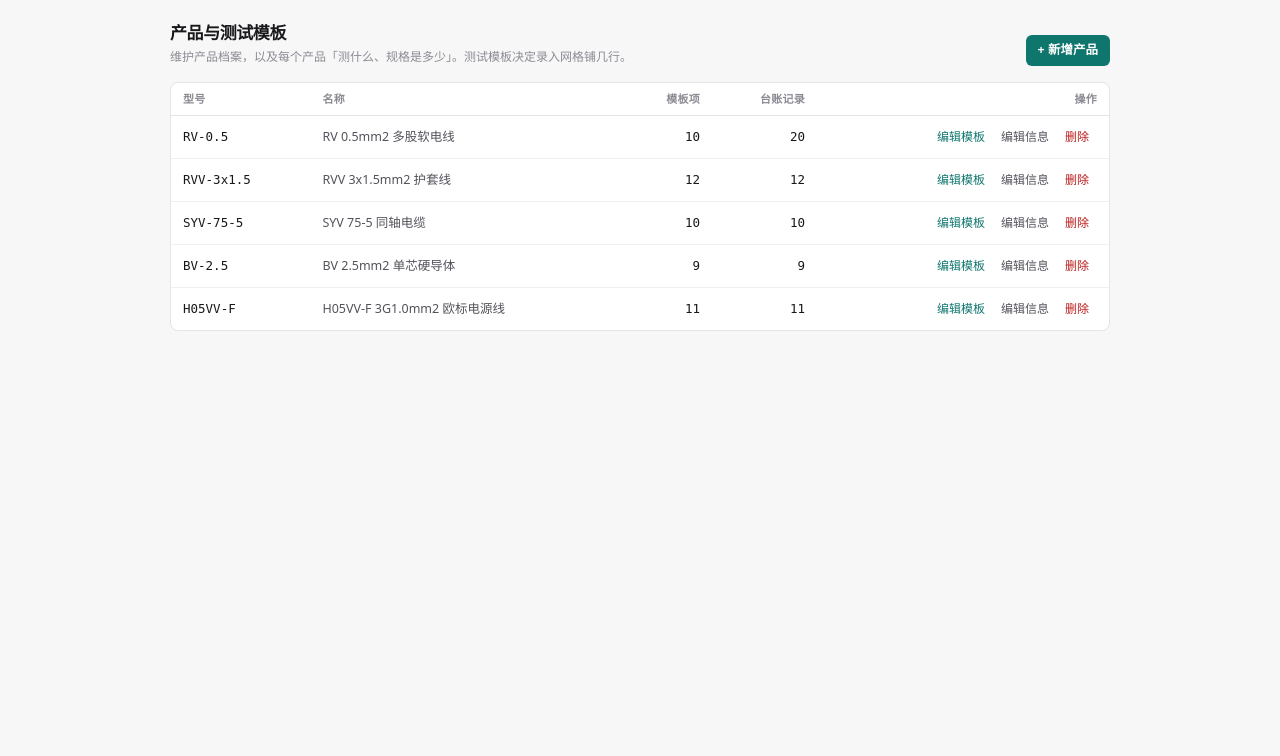
Test case: 工单 05 — 产品与测试模板管理 › 新增测试项并整批保存后，模板真实落盘（适配器可回读）
The image size is (1280, 756).
Click the button "编辑模板" in the row of "RV-0.5" at (961, 137), box left=929, top=124, right=993, bottom=150
(page scrolled)
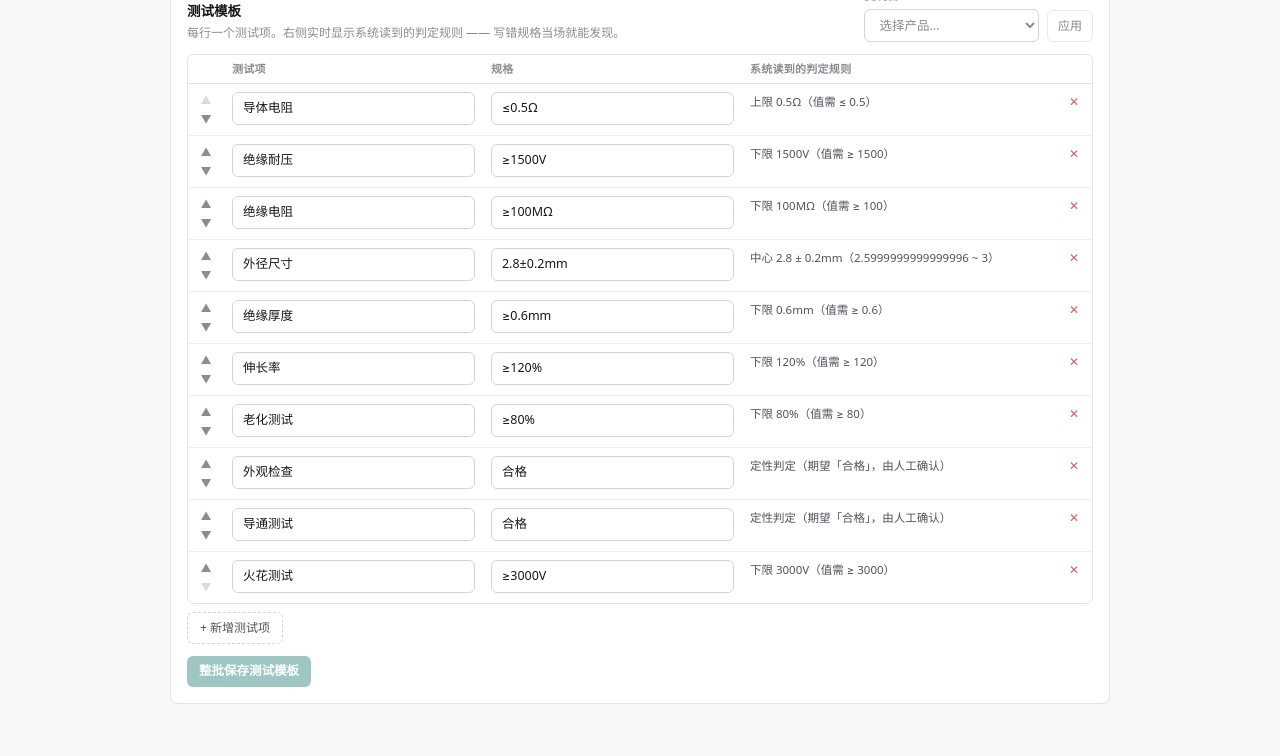
Expected: the heading "测试模板" is shown, left=187, top=2, right=241, bottom=20
Click the button "+ 新增测试项" at (235, 628), box left=187, top=612, right=283, bottom=644
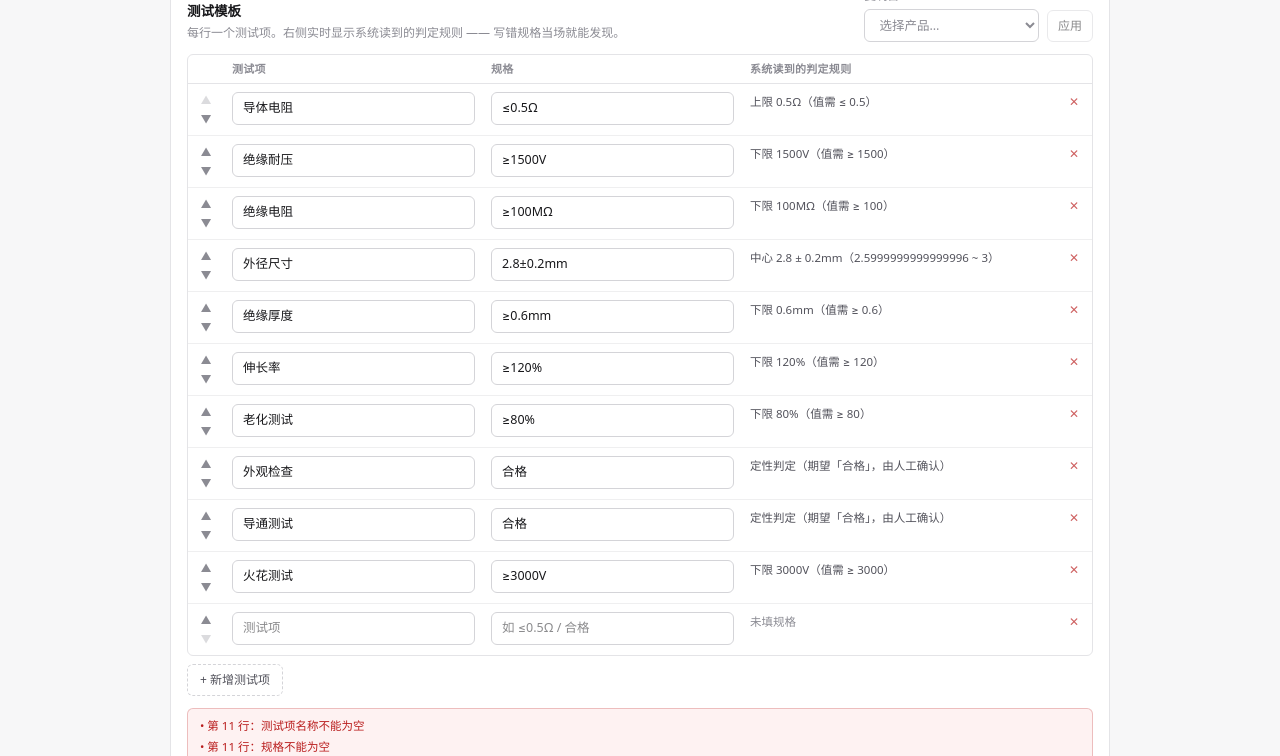
Type "新增测试项X" into the field with placeholder "测试项" at (354, 628), box left=232, top=612, right=475, bottom=645
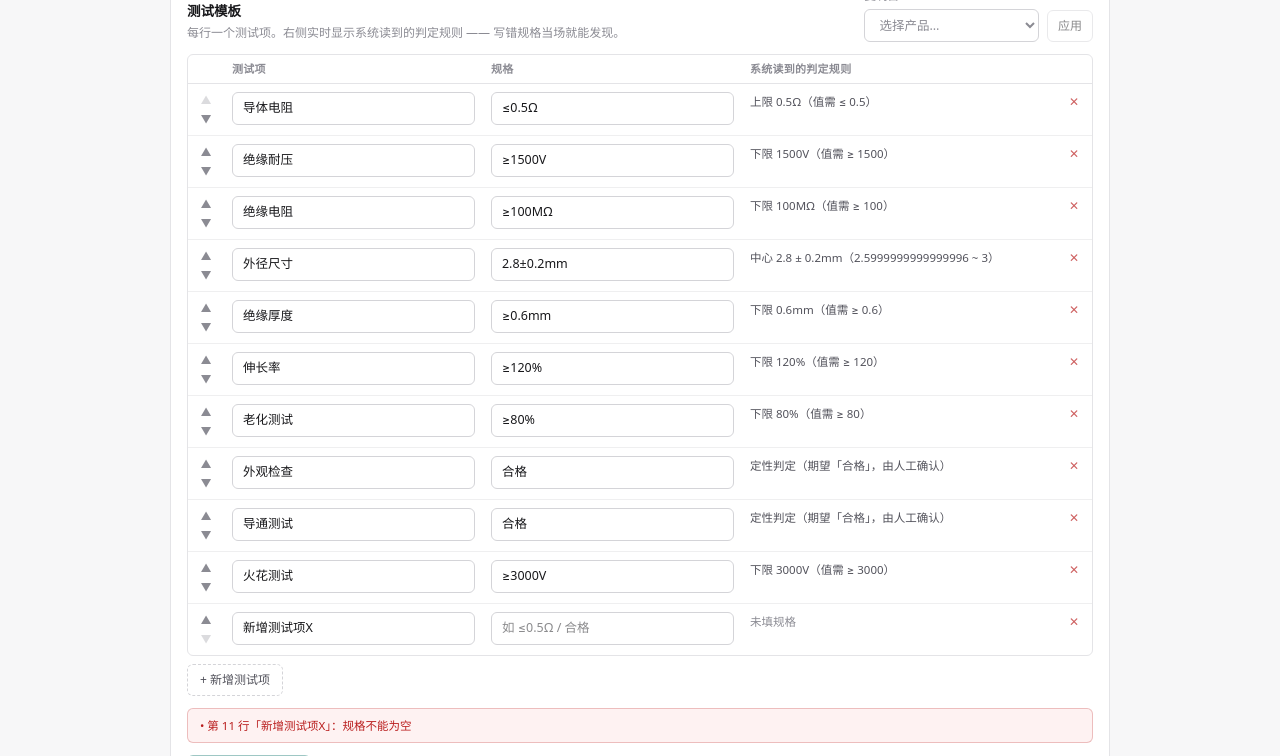
Type "≥10V" into the field with placeholder "如 ≤0.5Ω / 合格" at (612, 628), box left=491, top=612, right=734, bottom=645
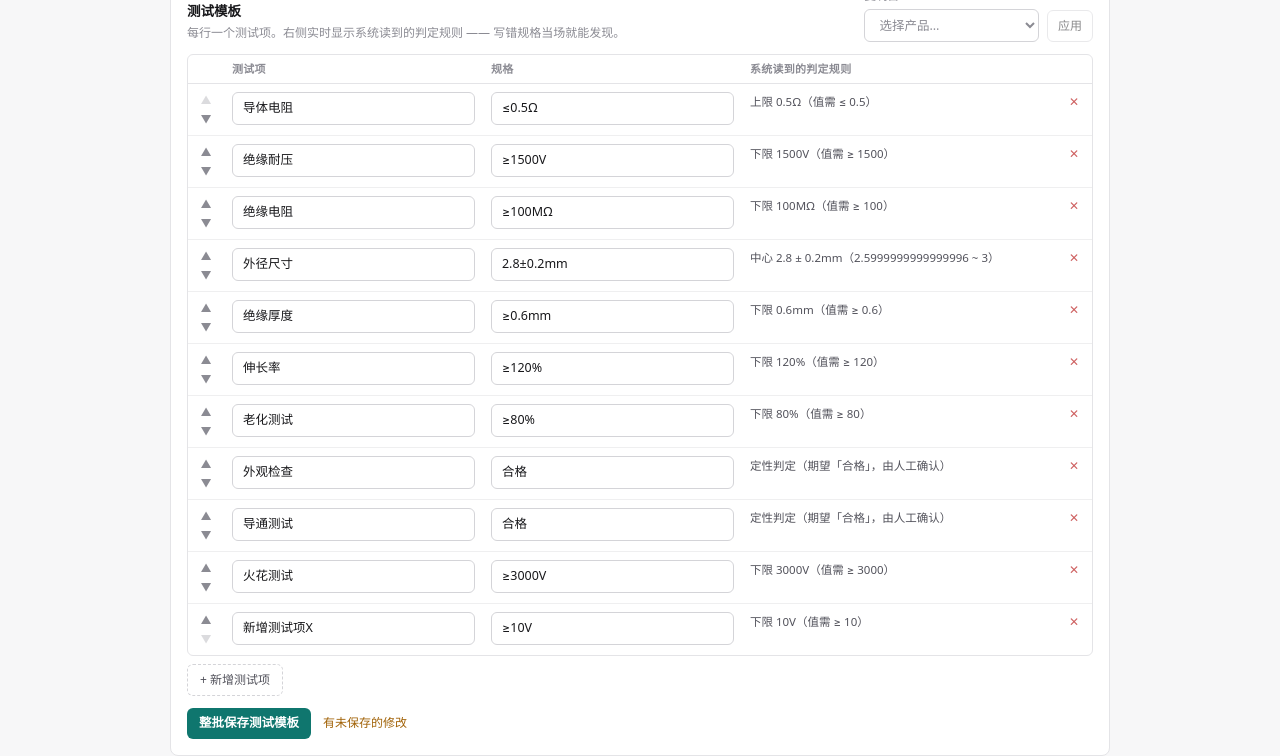
Click the button "整批保存测试模板" at (249, 723), box left=187, top=708, right=311, bottom=739
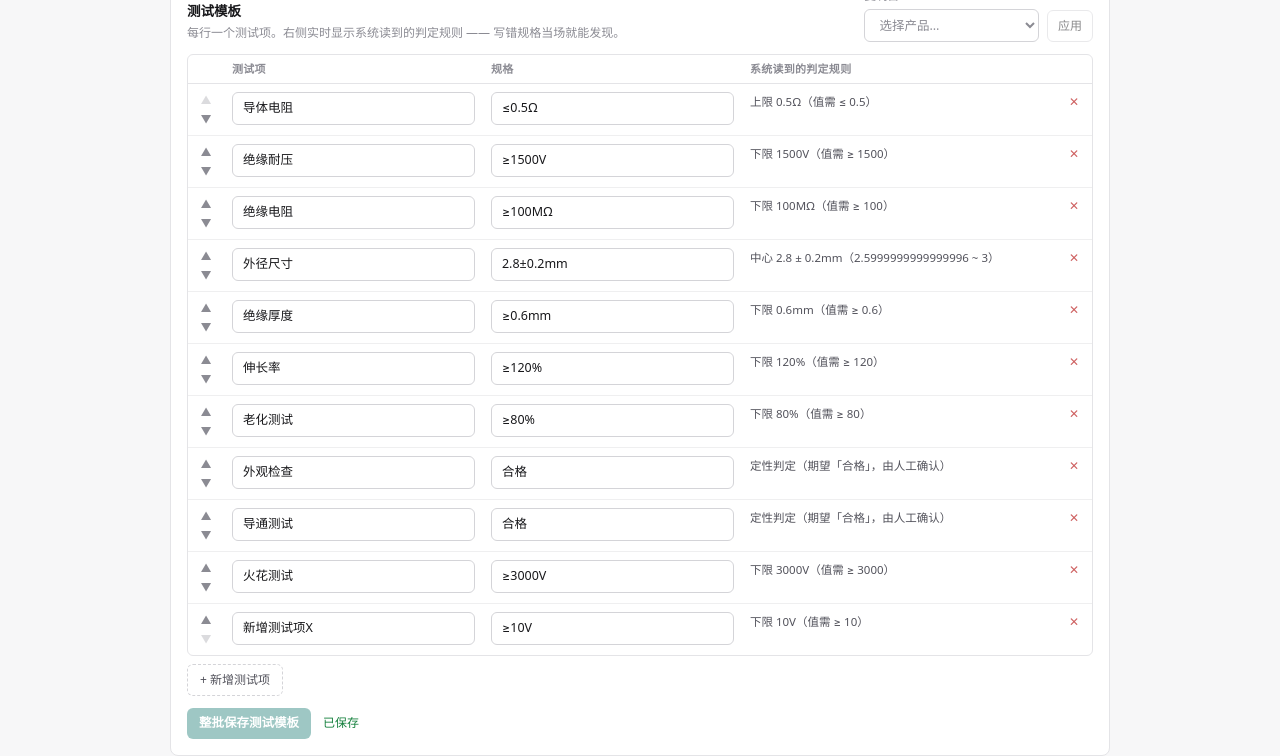
Now the text "已保存" is shown, box left=323, top=714, right=359, bottom=732
